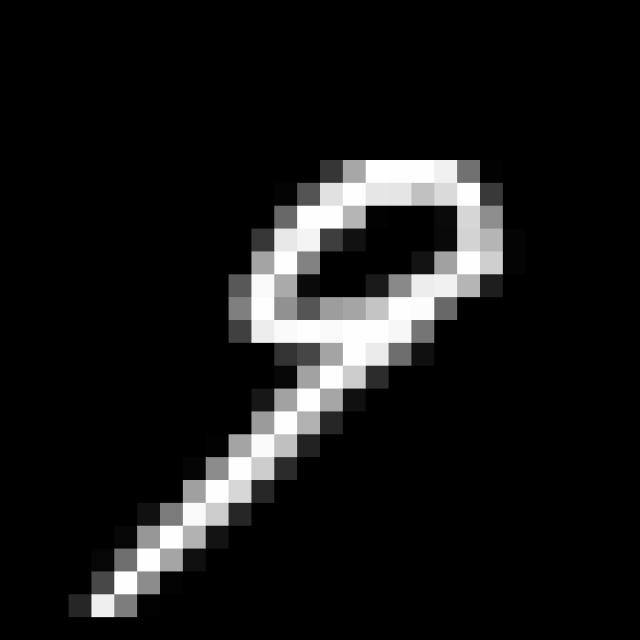nine -9-: (76, 137, 514, 640)
